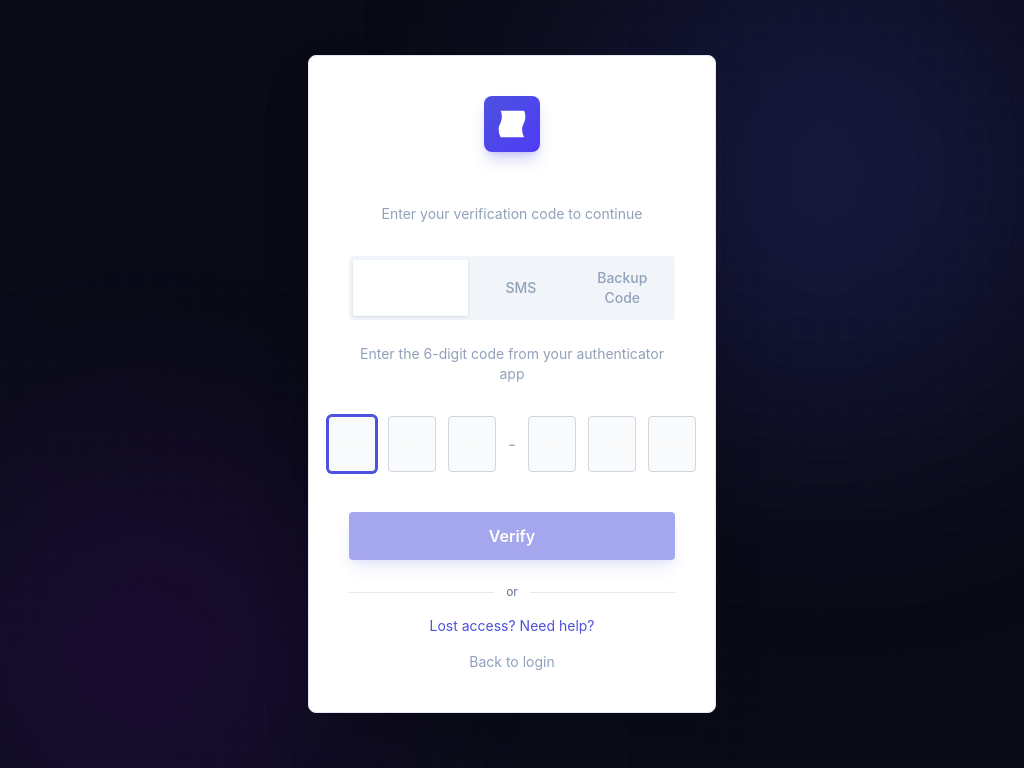
Test: MfaLoginForm › Method Selection › switches to backup code method when clicked
Click the button "Backup Code" at (622, 288), box [574,260,671,316]
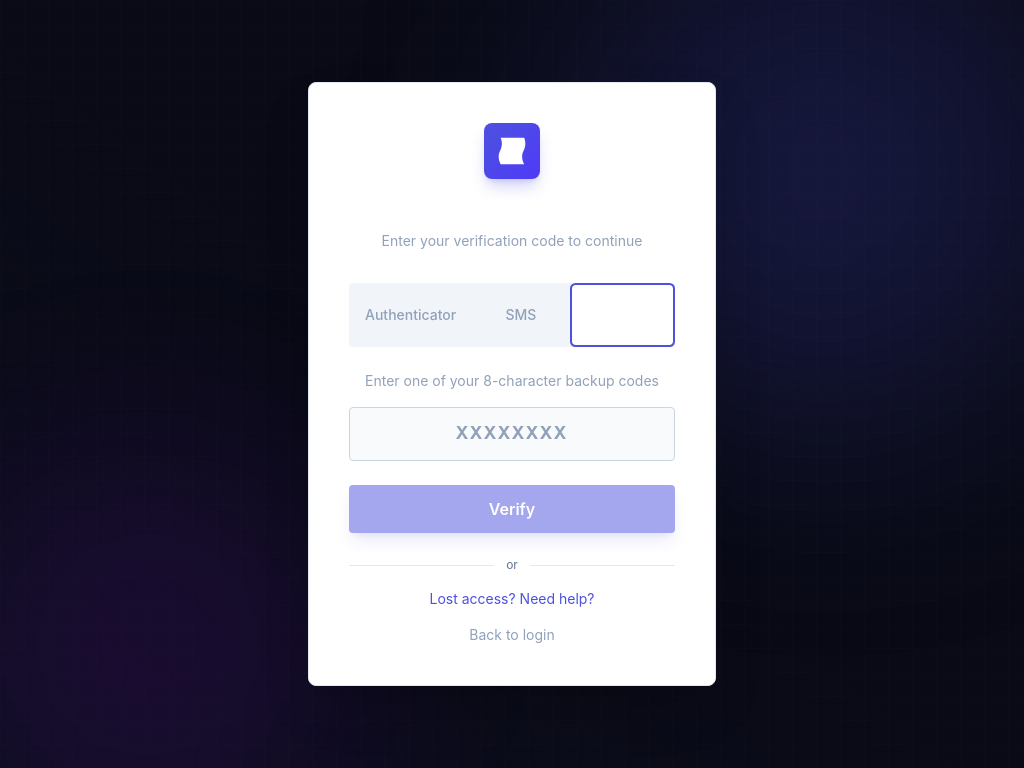
Expected: the field named "backup code" is shown, [349,407,675,461]
